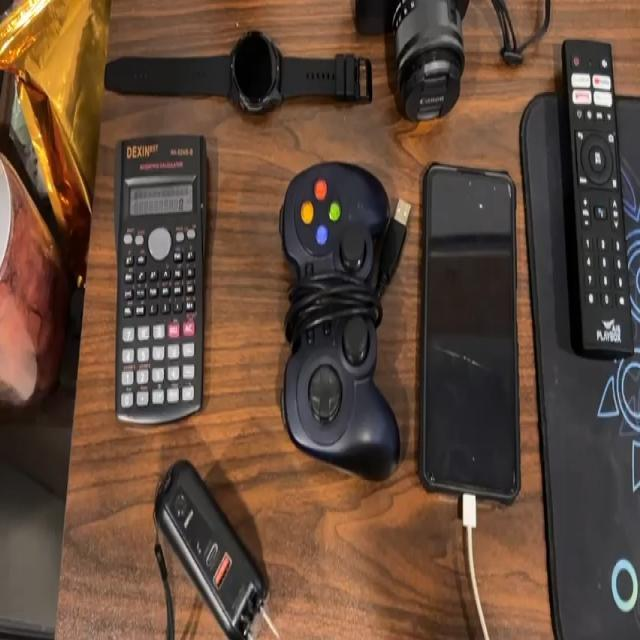calculator: (115, 124, 236, 440)
joy stick: (242, 121, 418, 481)
remote: (541, 37, 640, 366)
smart phone: (421, 160, 539, 520)
watch: (101, 43, 390, 115)
